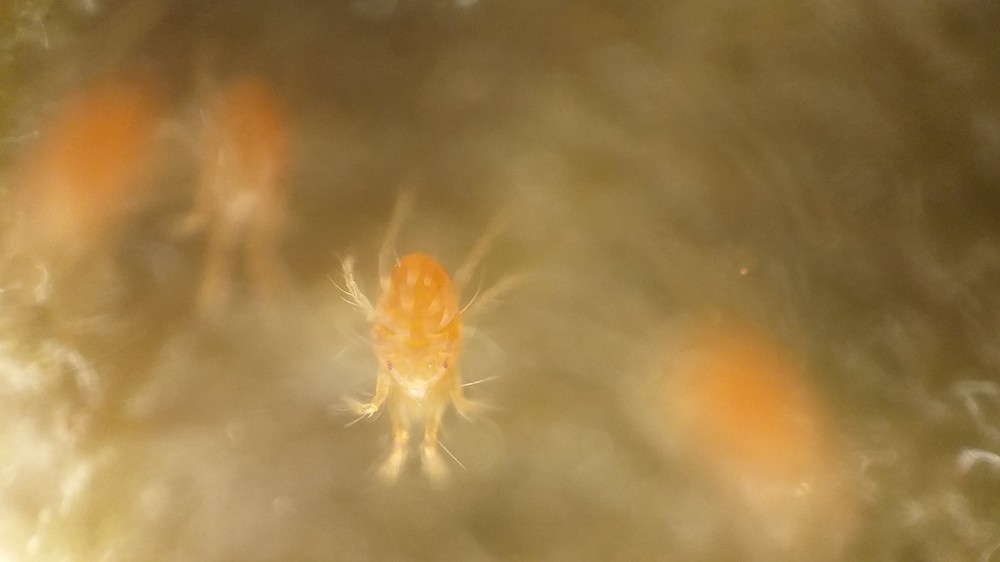Aracnido Rojo: (293, 201, 551, 502)
